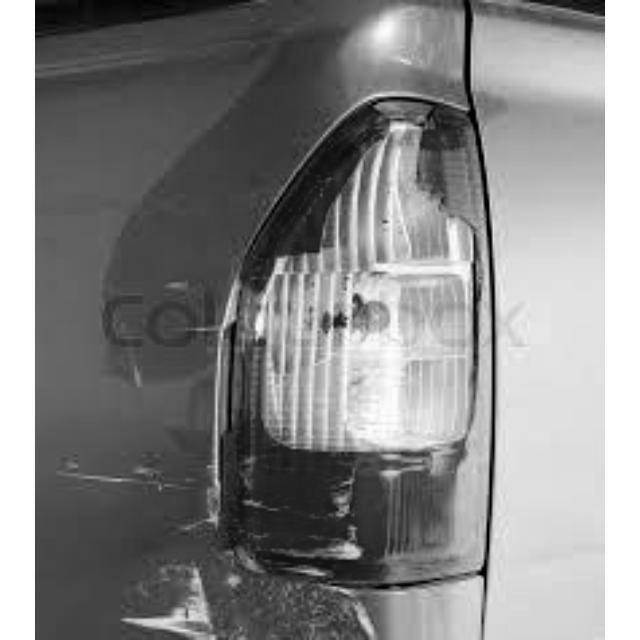Taillight-Damage: (202, 84, 503, 608)
